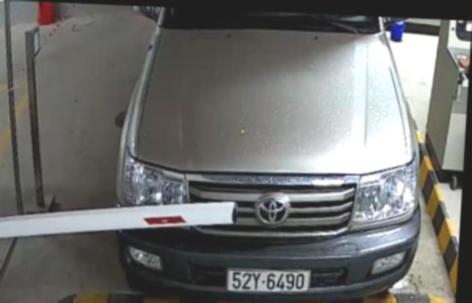License_Plate: (221, 263, 313, 302)
